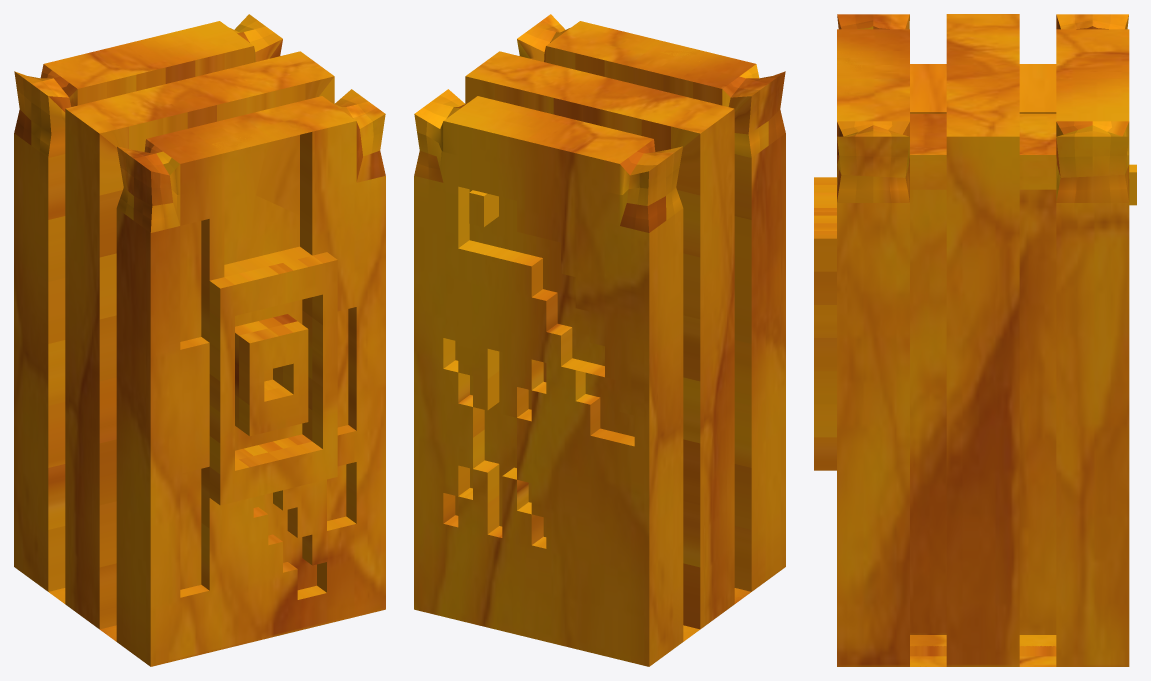
File: Ruin 1.fbx
3 views of the same model, side by side, from view 1: azimuth 30°, elevation 25°; view 2: azimuth 150°, elevation 25°; view 3: azimuth 270°, elevation 25° (orthographic). The views are drawn at different scales.
Parts seen in each view (by area): view 1: Ruin_1; view 2: Ruin_1; view 3: Ruin_1.
Boxes of the visible parts, x1=… form: Ruin_1: x1=14, y1=14, x2=385, y2=666; Ruin_1: x1=414, y1=14, x2=785, y2=666; Ruin_1: x1=814, y1=14, x2=1136, y2=666.
Size of the model in its own units: 1.82 by 3.67 by 2.02.
Materials: 1 (1 with a texture image).
